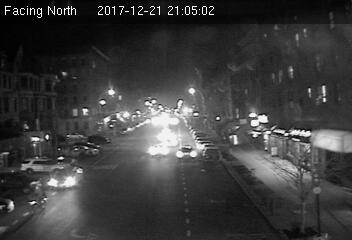car: (46, 165, 85, 189), (148, 143, 170, 156), (176, 145, 196, 159)
